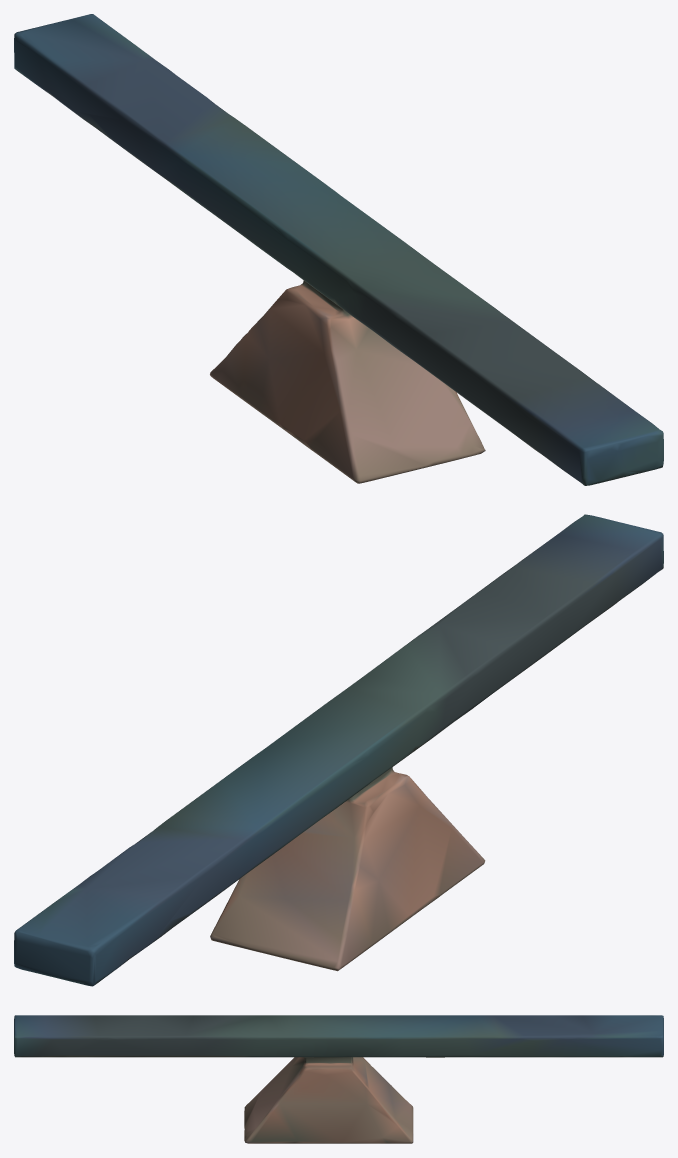
The model's file is gen3d-seesaw-lod1.glb.
The picture shows the model from 3 angles, top to bottom: view 1: azimuth 30°, elevation 25°; view 2: azimuth 150°, elevation 25°; view 3: azimuth 270°, elevation 25°; orthographic projection. The views are drawn at different scales.
Visible parts, largest first — view 1: part_0; view 2: part_0; view 3: part_0.
Boxes of the visible parts, bbox=[...] form: part_0: bbox=[14, 14, 663, 485]; part_0: bbox=[14, 514, 663, 986]; part_0: bbox=[14, 1015, 663, 1143].
Bounding box in the file's own units: 0.7659 × 1 × 5.85.
